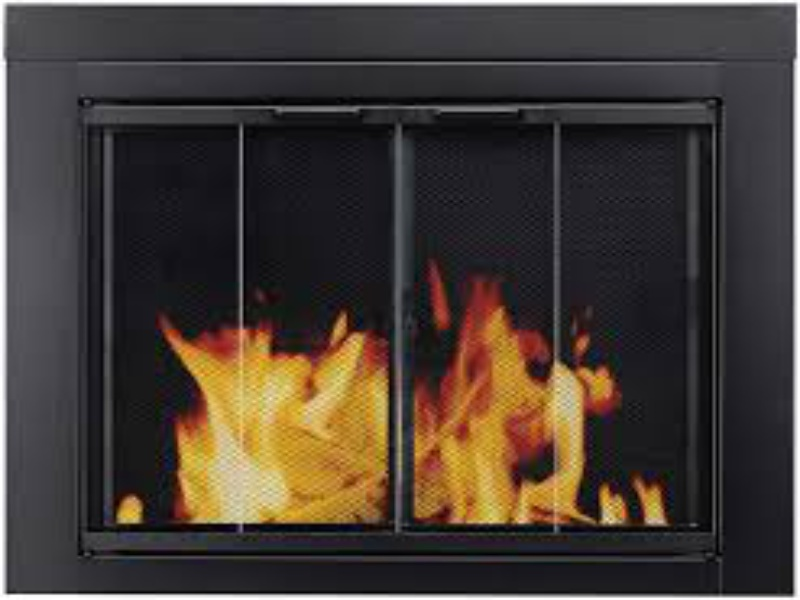fire: (113, 250, 668, 534)
